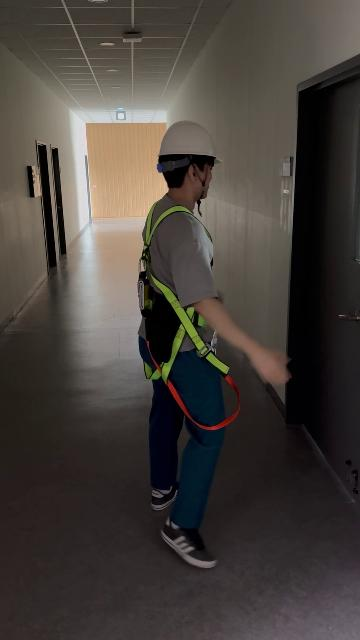helmet_worn: (156, 120, 225, 165)
shoe_not_worn: (161, 517, 217, 568), (150, 480, 179, 510)
vest_worn: (135, 204, 238, 422)
